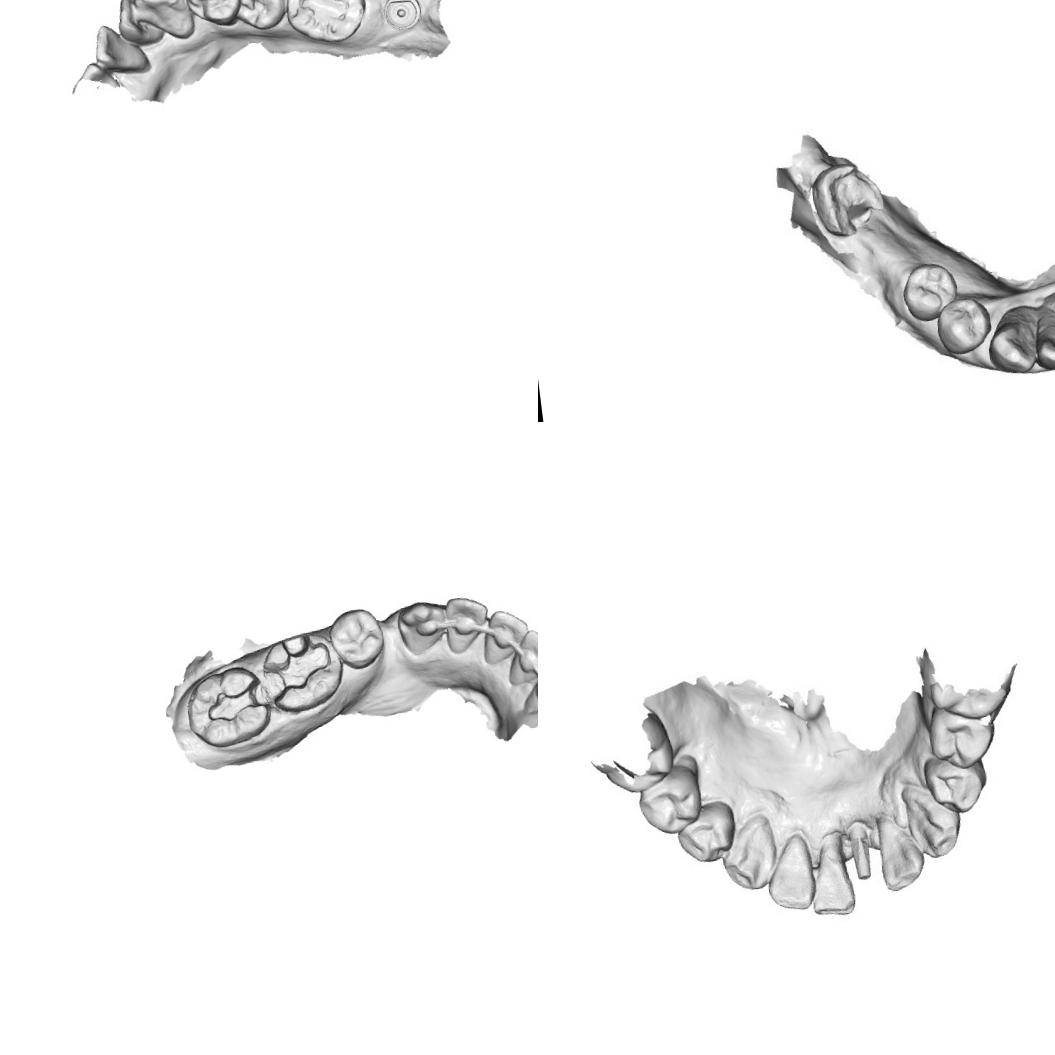abutment: (842, 813, 880, 882)
canine: (990, 302, 1040, 374), (395, 598, 448, 658), (129, 0, 199, 44)
implant: (382, 0, 425, 32)
incisor: (904, 782, 966, 859), (89, 17, 154, 80), (728, 822, 780, 891), (876, 816, 923, 891), (768, 842, 816, 912), (812, 842, 856, 917), (478, 606, 532, 666), (111, 0, 171, 51), (443, 594, 493, 655), (503, 626, 538, 687), (1030, 308, 1055, 377)
inlay: (259, 632, 334, 706), (203, 674, 270, 726)
molar: (808, 158, 887, 241), (279, 0, 372, 51)
premolar: (636, 769, 702, 834), (326, 606, 388, 673), (931, 707, 994, 769), (934, 296, 992, 356), (680, 805, 735, 863), (901, 263, 955, 321), (931, 760, 989, 814), (228, 0, 295, 33), (180, 0, 245, 32)
